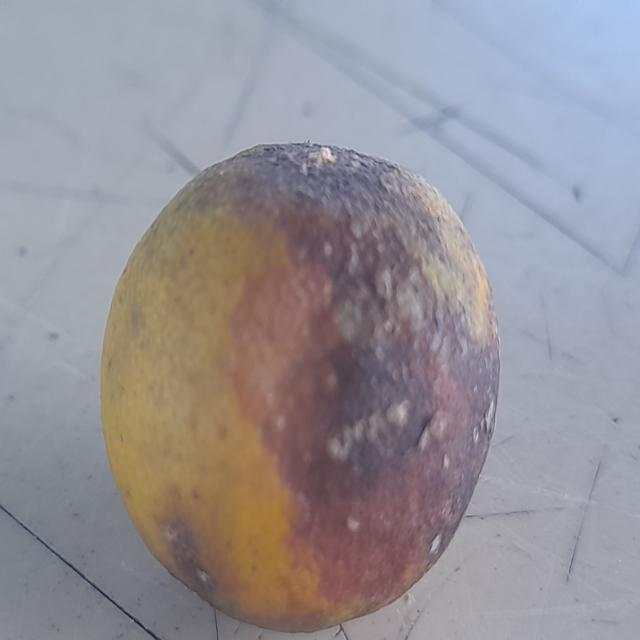black spot: (87, 116, 514, 636)
